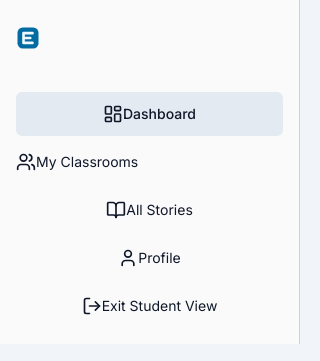
StudentSidebar › names collapsed links and exposes classroom disclosure state
The width and height of the screenshot is (320, 361).
Expected: the link "Dashboard" is shown, [16,92,283,136]
Expected: the link named "EduComic student home" is shown, [16,26,40,50]
Click the button "My Classrooms" at (87,162), box [16,140,283,184]
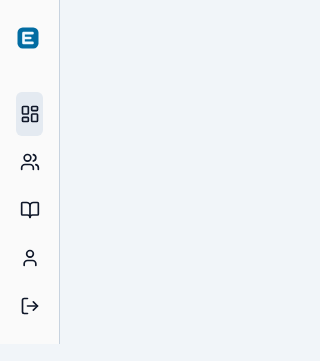
Expected: the button named "My Classrooms" is expanded, [16,140,43,184]
